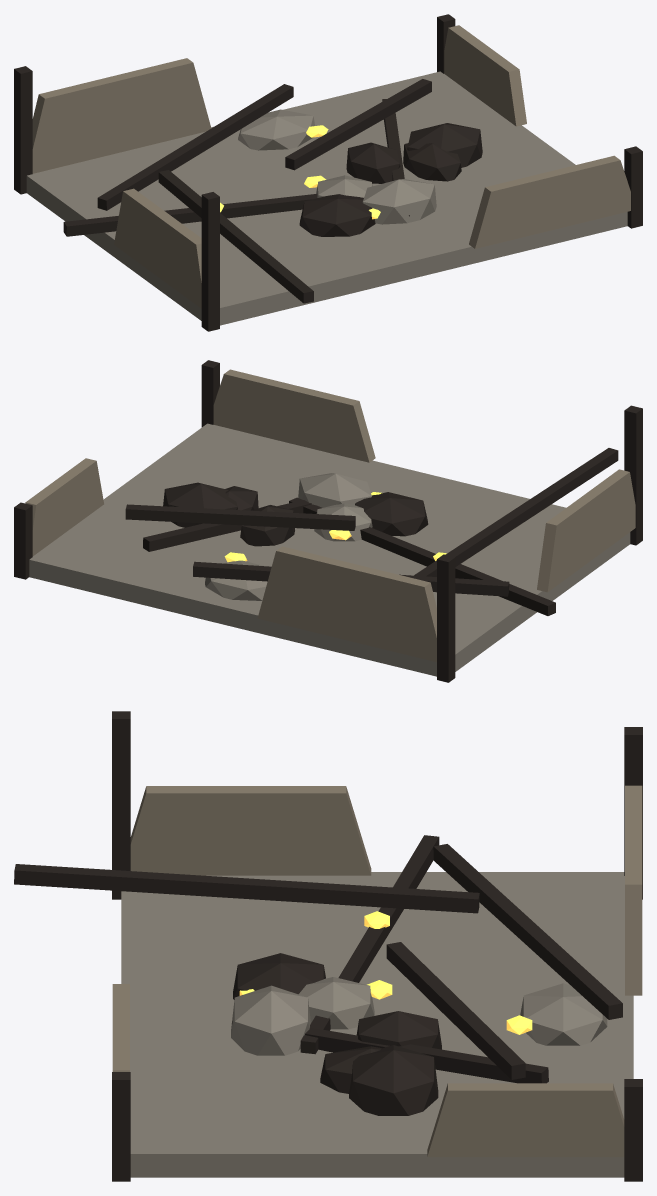
The model's file is Dorf_Muehle_Ruine.fbx.
3 renders of one model, top to bottom at view 1: azimuth 30°, elevation 25°; view 2: azimuth 150°, elevation 25°; view 3: azimuth 270°, elevation 25°, orthographic. The views are drawn at different scales.
Visible parts, largest first — view 1: Dorf_Muehle_Ruine; view 2: Dorf_Muehle_Ruine; view 3: Dorf_Muehle_Ruine.
Part boxes in pixels (bbox=[...]): Dorf_Muehle_Ruine: bbox=[14, 14, 642, 331]; Dorf_Muehle_Ruine: bbox=[14, 360, 642, 682]; Dorf_Muehle_Ruine: bbox=[14, 711, 642, 1181].
Size of the model in its own units: 9.39 by 2.69 by 8.11.
